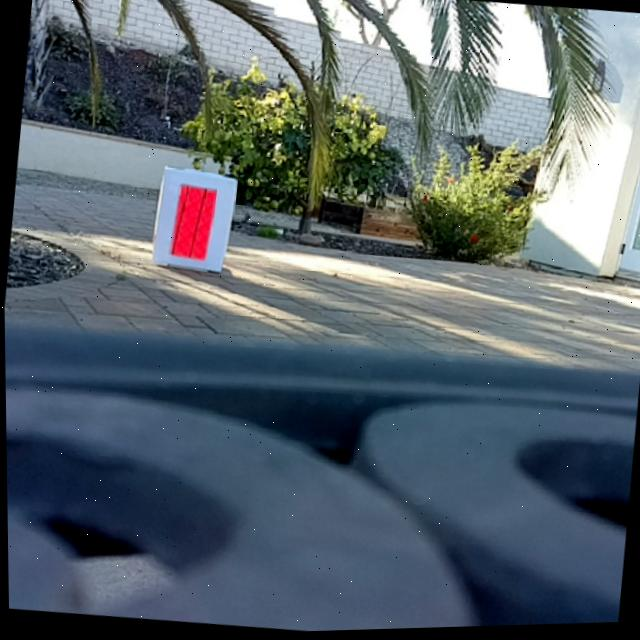led: (168, 182, 219, 265)
